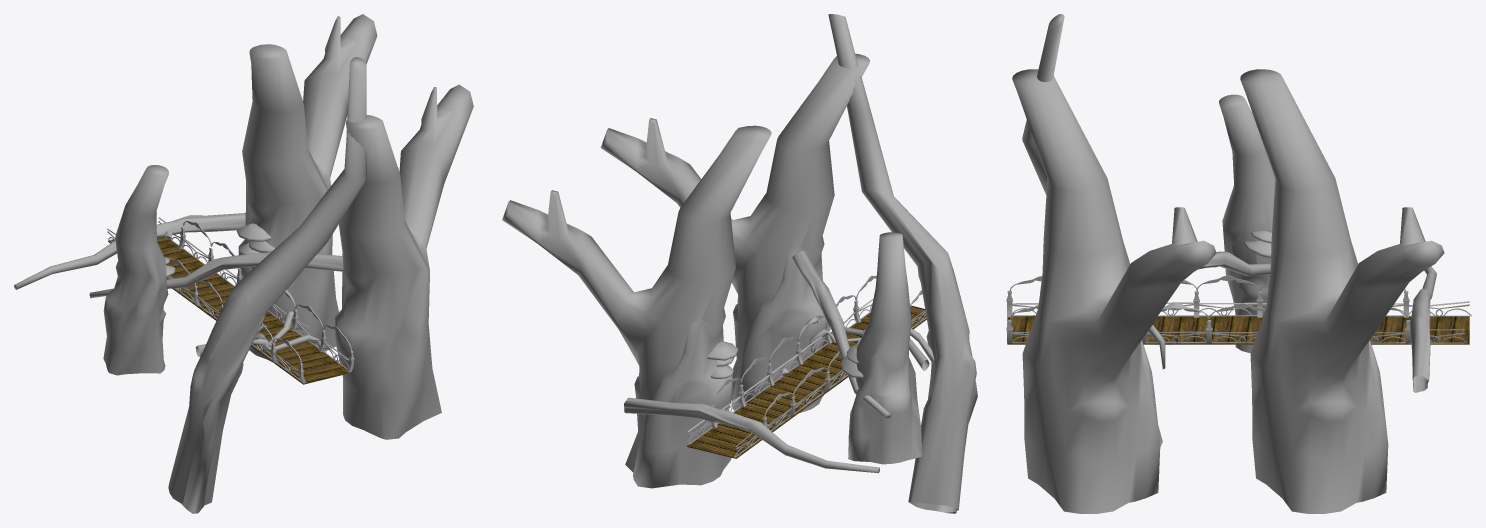
File: fairyland_log.fbx
3 views of the same model, side by side, from view 1: azimuth 30°, elevation 25°; view 2: azimuth 150°, elevation 25°; view 3: azimuth 270°, elevation 25° (orthographic). The views are drawn at different scales.
Parts seen in each view (by area): view 1: pCylinder27, pCylinder37, pCylinder26, pCylinder22, pCube2, pCylinder36, pCylinder30, pCylinder28; view 2: pCylinder37, pCylinder27, pCylinder26, pCylinder22, pCube2, pCylinder36, pCylinder30; view 3: pCylinder37, pCylinder27, pCylinder22, pCube2, pCylinder36, pCylinder26, pCylinder30.
Boxes of the visible parts, x1=… form: pCylinder27: x1=335, y1=84, x2=473, y2=439; pCylinder37: x1=238, y1=14, x2=377, y2=361; pCylinder26: x1=168, y1=57, x2=366, y2=513; pCylinder22: x1=103, y1=165, x2=168, y2=375; pCube2: x1=108, y1=237, x2=351, y2=384; pCylinder36: x1=14, y1=213, x2=245, y2=289; pCylinder30: x1=89, y1=251, x2=343, y2=298; pCylinder28: x1=195, y1=334, x2=326, y2=356; pCylinder37: x1=502, y1=125, x2=771, y2=488; pCylinder27: x1=600, y1=53, x2=869, y2=412; pCylinder26: x1=828, y1=14, x2=977, y2=513; pCylinder22: x1=848, y1=232, x2=922, y2=464; pCube2: x1=687, y1=305, x2=926, y2=458; pCylinder36: x1=624, y1=397, x2=879, y2=473; pCylinder30: x1=792, y1=251, x2=891, y2=418; pCylinder37: x1=1240, y1=69, x2=1444, y2=513; pCylinder27: x1=1012, y1=69, x2=1216, y2=513; pCylinder22: x1=1219, y1=94, x2=1275, y2=353; pCube2: x1=1007, y1=315, x2=1469, y2=344; pCylinder36: x1=1410, y1=266, x2=1436, y2=392; pCylinder26: x1=1022, y1=14, x2=1162, y2=446; pCylinder30: x1=1198, y1=251, x2=1270, y2=276.
Bounding box in the file's own units: 3888 × 4515 × 3663.
